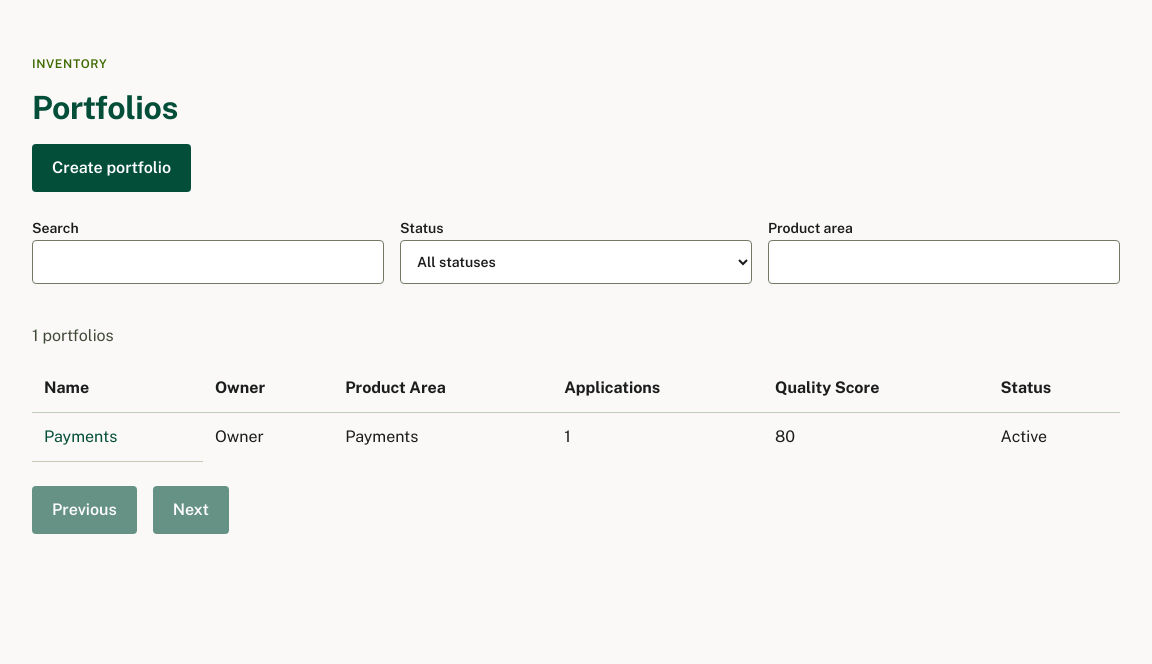
Scenario: retains a failed create and opens the saved portfolio after retry
Click the button "Create portfolio". click: [112, 168]
box: [32,144,191,192]
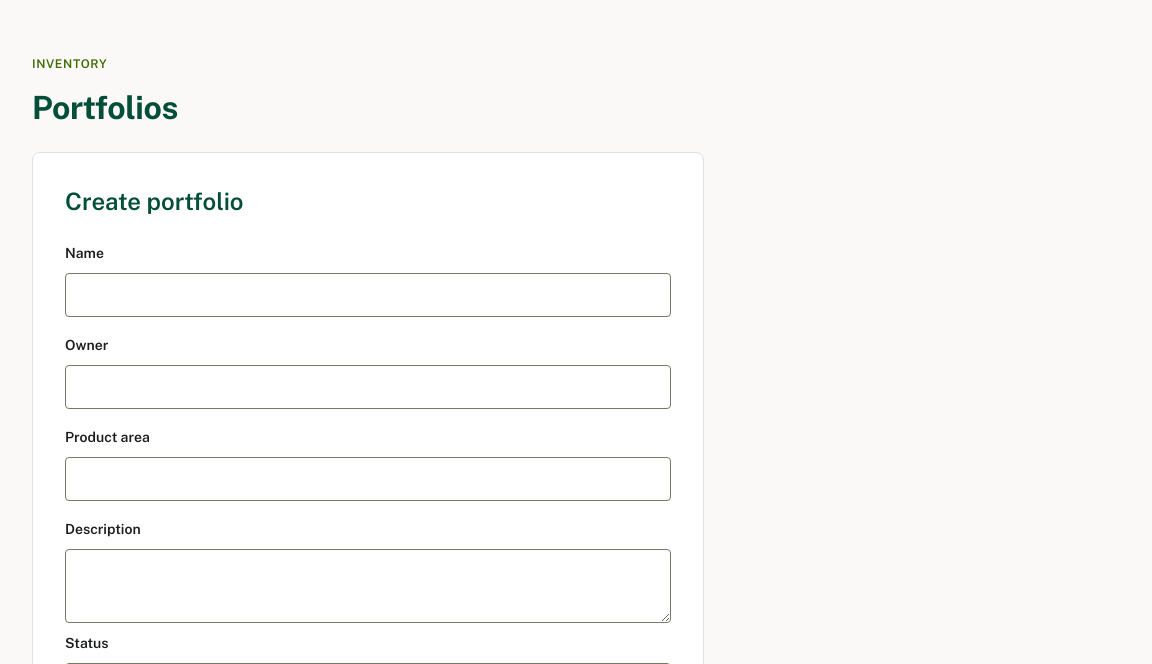
Type "New portfolio" into the field labelled "Name". click: [368, 295]
box: [65,273,671,317]
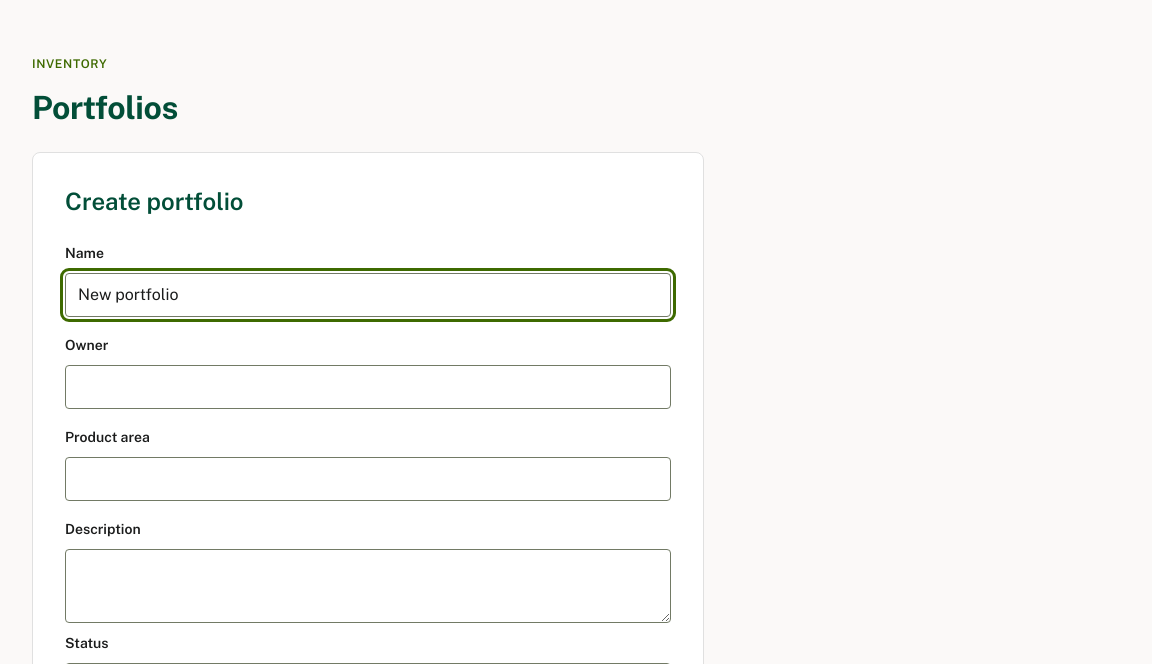
Type "New owner" into the field labelled "Owner". click: [368, 387]
box: [65,365,671,409]
(page scrolled)
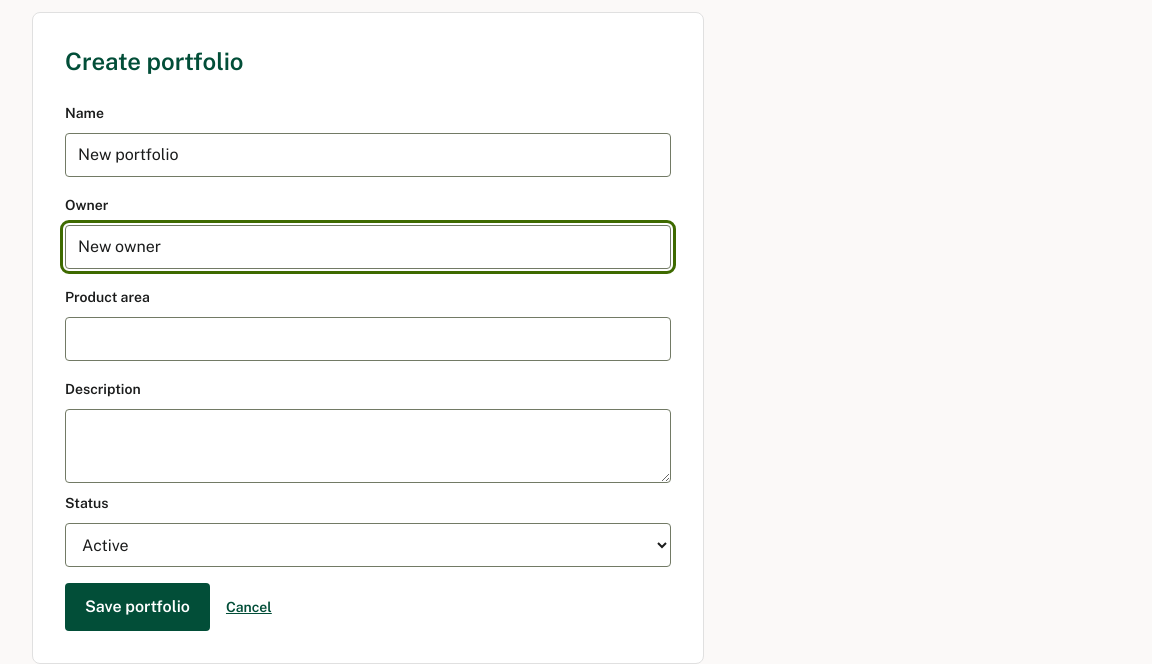
Click the button "Save portfolio". click: [138, 607]
box: [65,583,210,631]
(page scrolled)
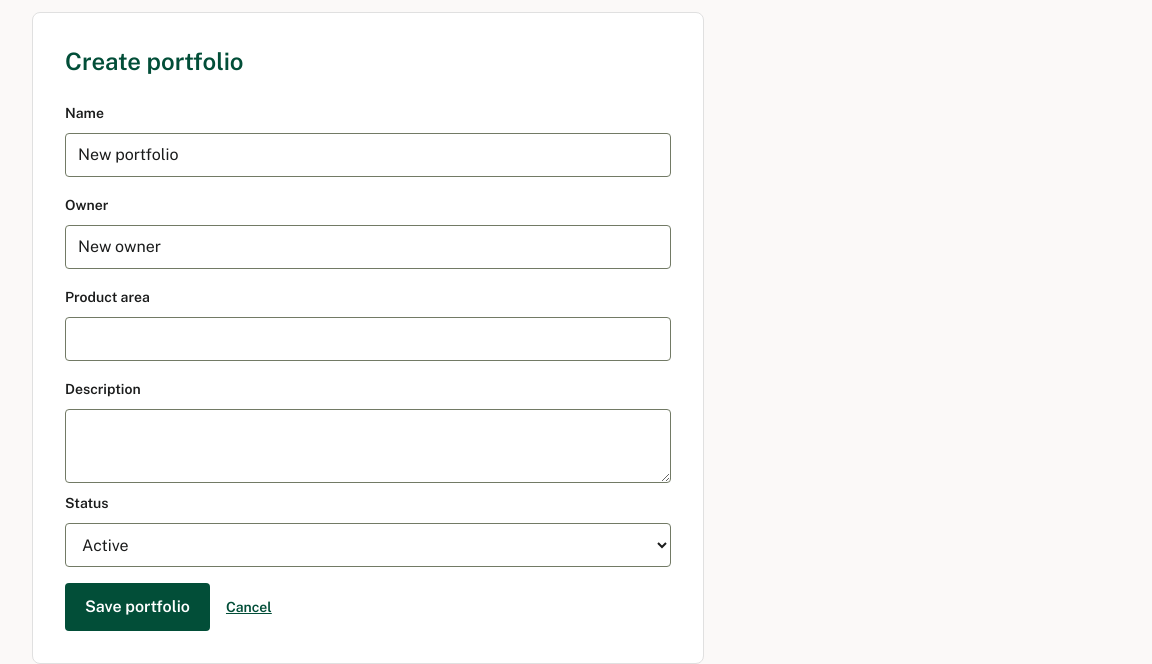
Click the button "Save portfolio". click: [138, 607]
box: [65,583,210,631]
(page scrolled)
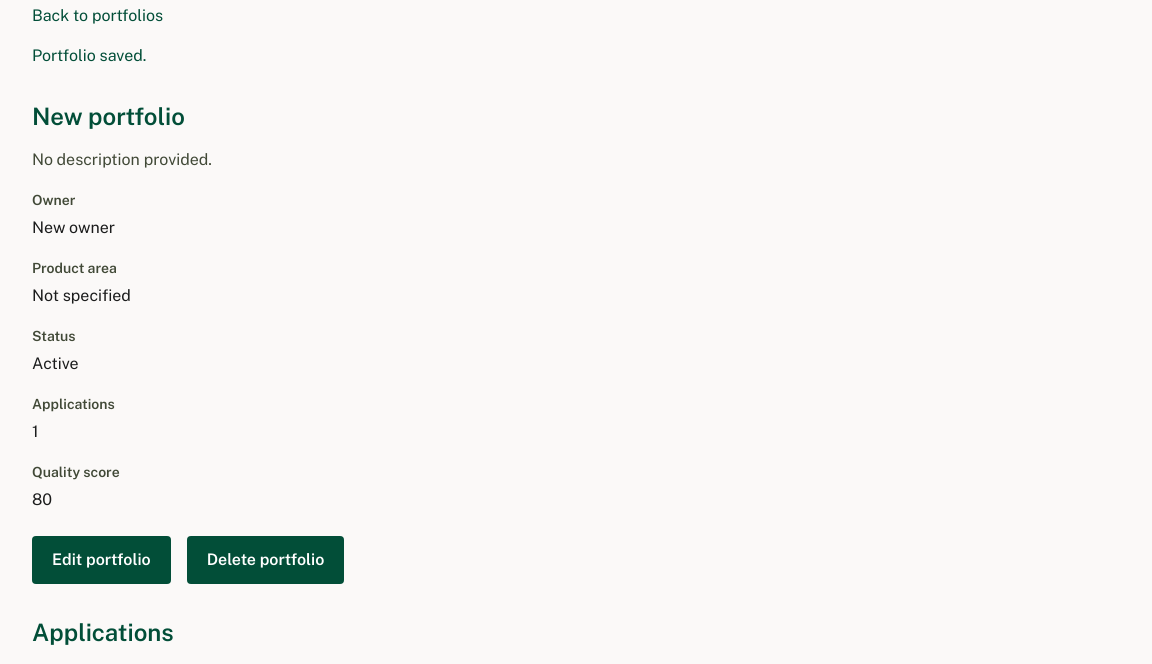
Expected: the heading "New portfolio" is shown, [32,102,185,130]
Expected: the text "New owner" is shown, [32,218,115,237]
Expected: the text "Portfolio saved." is shown, [32,46,146,65]
